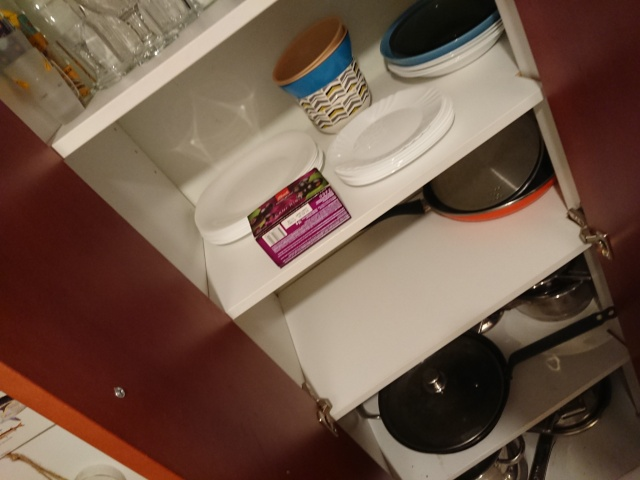Franck Black Currant Tea 60g: (244, 165, 354, 271)
